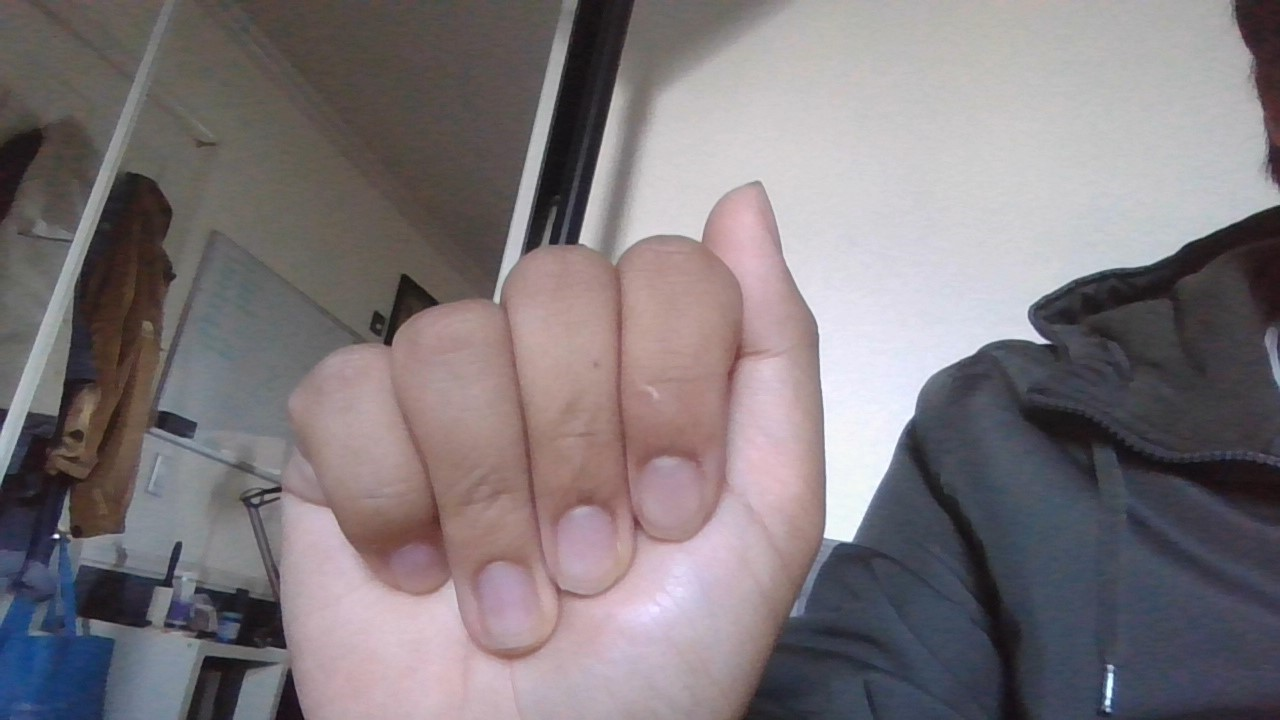a: (184, 157, 875, 720)
